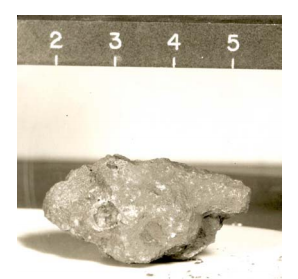Breccia: (51, 144, 263, 253), (96, 185, 172, 237)
